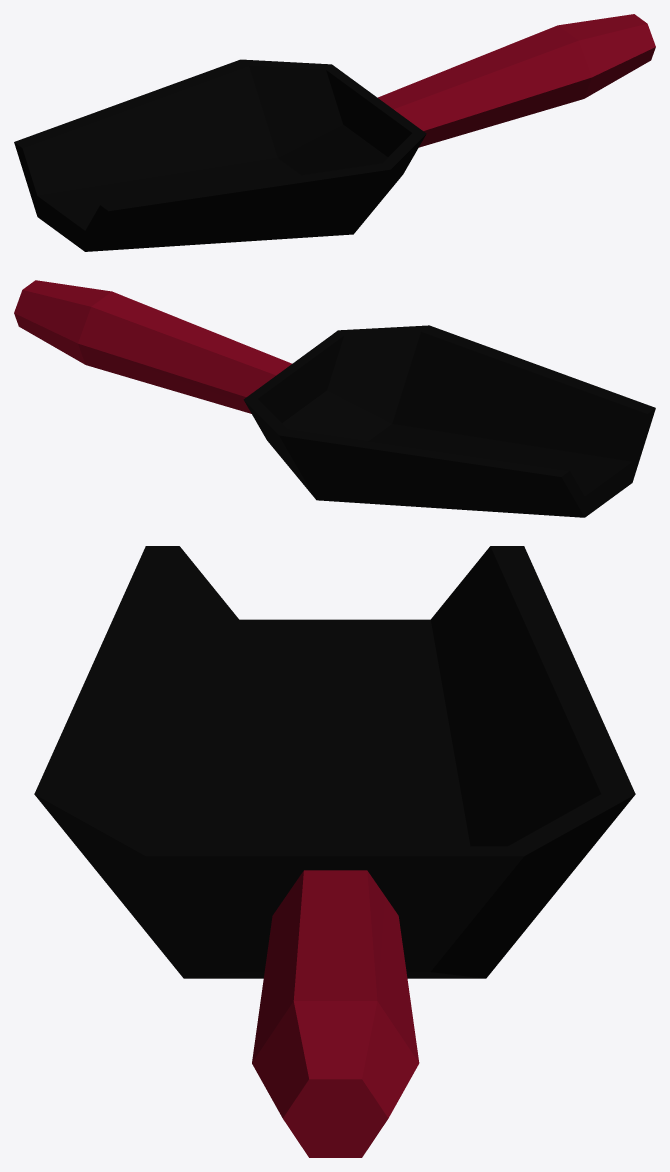
The model's file is Shovel.fbx.
The picture shows the model from 3 angles, top to bottom: view 1: azimuth 30°, elevation 25°; view 2: azimuth 150°, elevation 25°; view 3: azimuth 270°, elevation 25°; orthographic projection. The views are drawn at different scales.
Visible parts, largest first — view 1: node_id27, node_id30; view 2: node_id27, node_id30; view 3: node_id27, node_id30.
Part boxes in pixels (x1,y1,x2,y2): node_id27: (14,59,426,251); node_id30: (378,14,655,147); node_id27: (243,325,655,517); node_id30: (14,280,291,413); node_id27: (34,546,635,978); node_id30: (252,870,419,1157).
Size of the model in its own units: 1.03 by 0.1888 by 0.4592.
2 materials, 2 textured.
